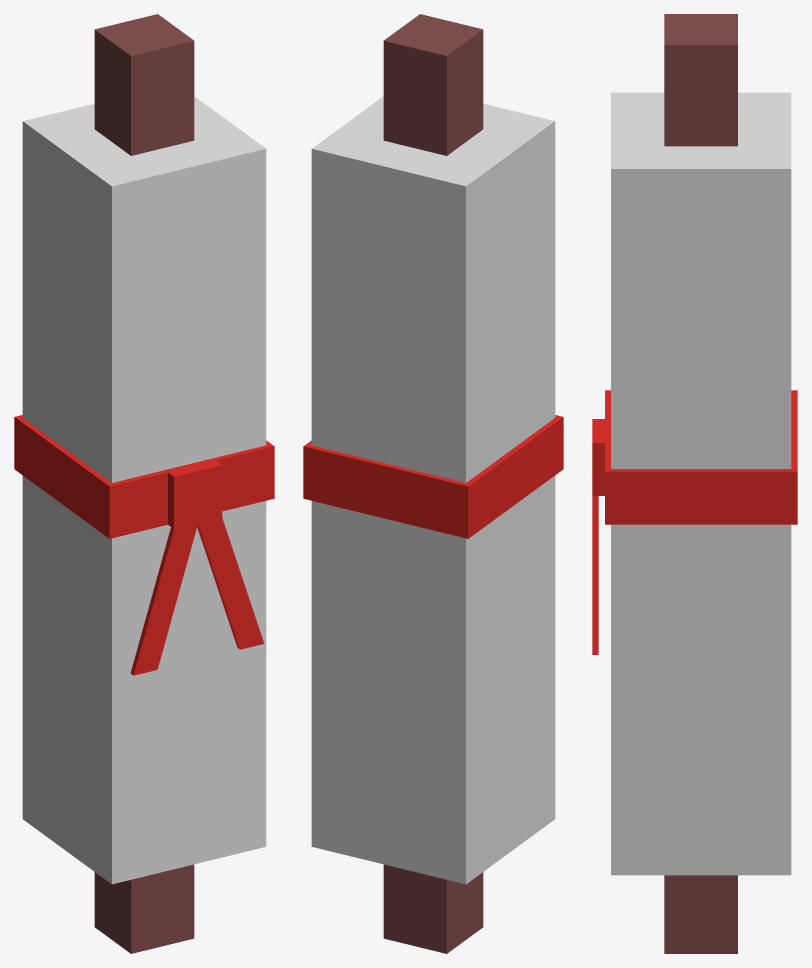
Rendered from Scroll_1201.fbx.
3 renders of one model, left to right at view 1: azimuth 30°, elevation 25°; view 2: azimuth 150°, elevation 25°; view 3: azimuth 270°, elevation 25°, orthographic.
Visible parts, largest first — view 1: Cube; view 2: Cube; view 3: Cube.
Part boxes in pixels (box(x1,y1,x2,y2)): Cube: box(14, 14, 274, 953); Cube: box(303, 14, 563, 953); Cube: box(592, 14, 797, 953).
Size of the model in its own units: 214 by 1112 by 227.
